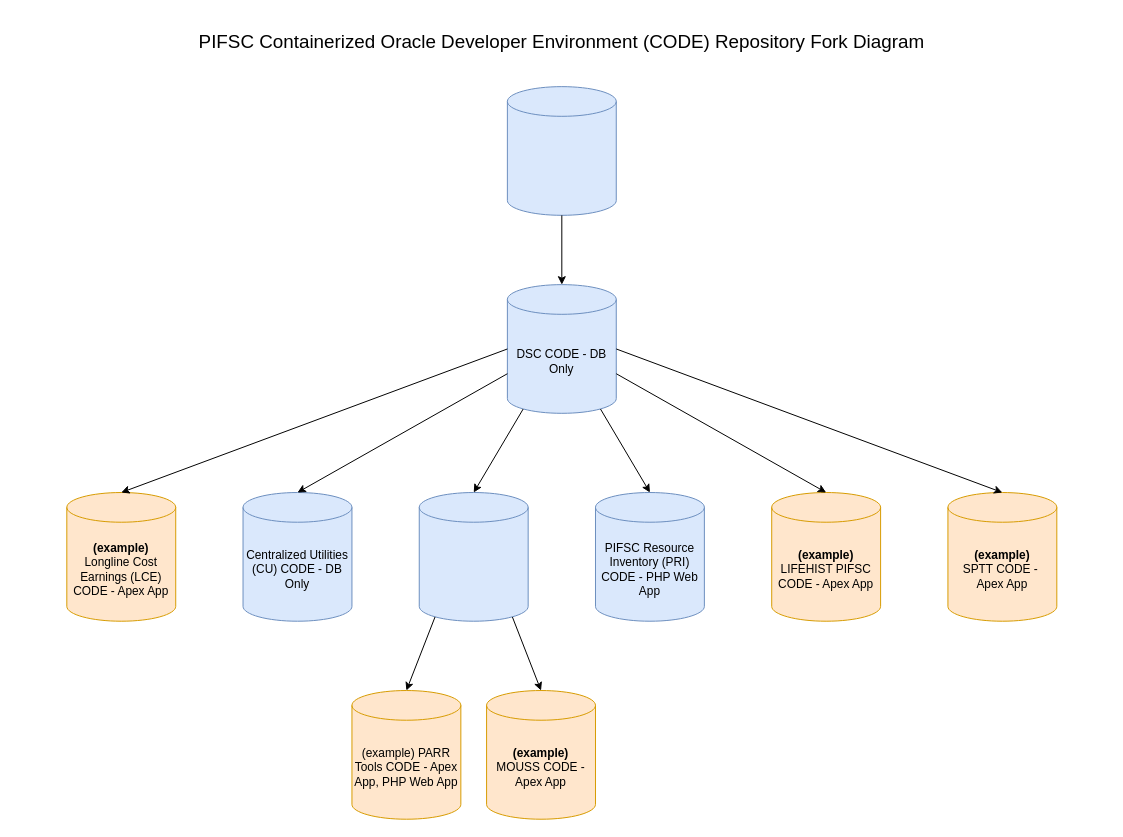
This 1123x837 diagram has some shape labels left out. Here are the shapes that lost their labels. From the top down, the box of each, then its label:
(506, 86, 616, 215): CODE
(418, 492, 528, 621): Centralized Authorization System (CAS) CODE - Apex App
